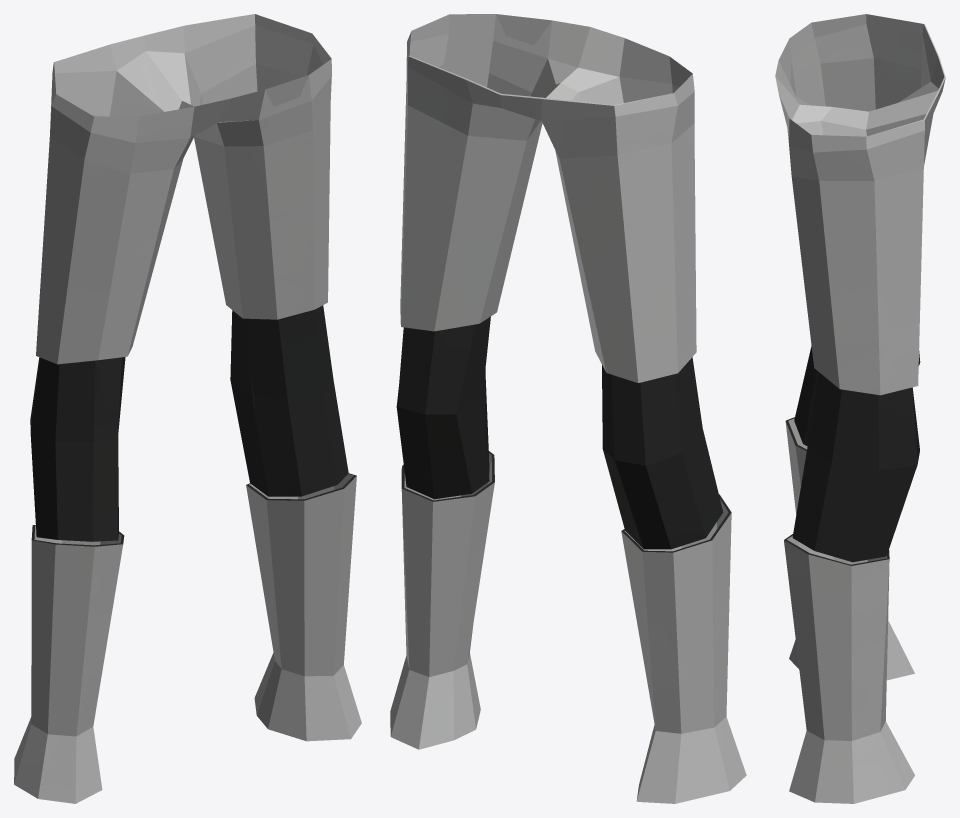
Rendered from Armor_Greave.fbx.
3 views of the same model, side by side, from view 1: azimuth 30°, elevation 25°; view 2: azimuth 150°, elevation 25°; view 3: azimuth 270°, elevation 25° (orthographic). The views are drawn at different scales.
Parts seen in each view (by area): view 1: Armor_Greave; view 2: Armor_Greave; view 3: Armor_Greave.
Part boxes in pixels (x1,y1,x2,y2): Armor_Greave: (14, 14, 361, 803); Armor_Greave: (390, 14, 746, 803); Armor_Greave: (775, 14, 945, 803).
Size of the model in its own units: 39.5 by 77.65 by 18.17.
